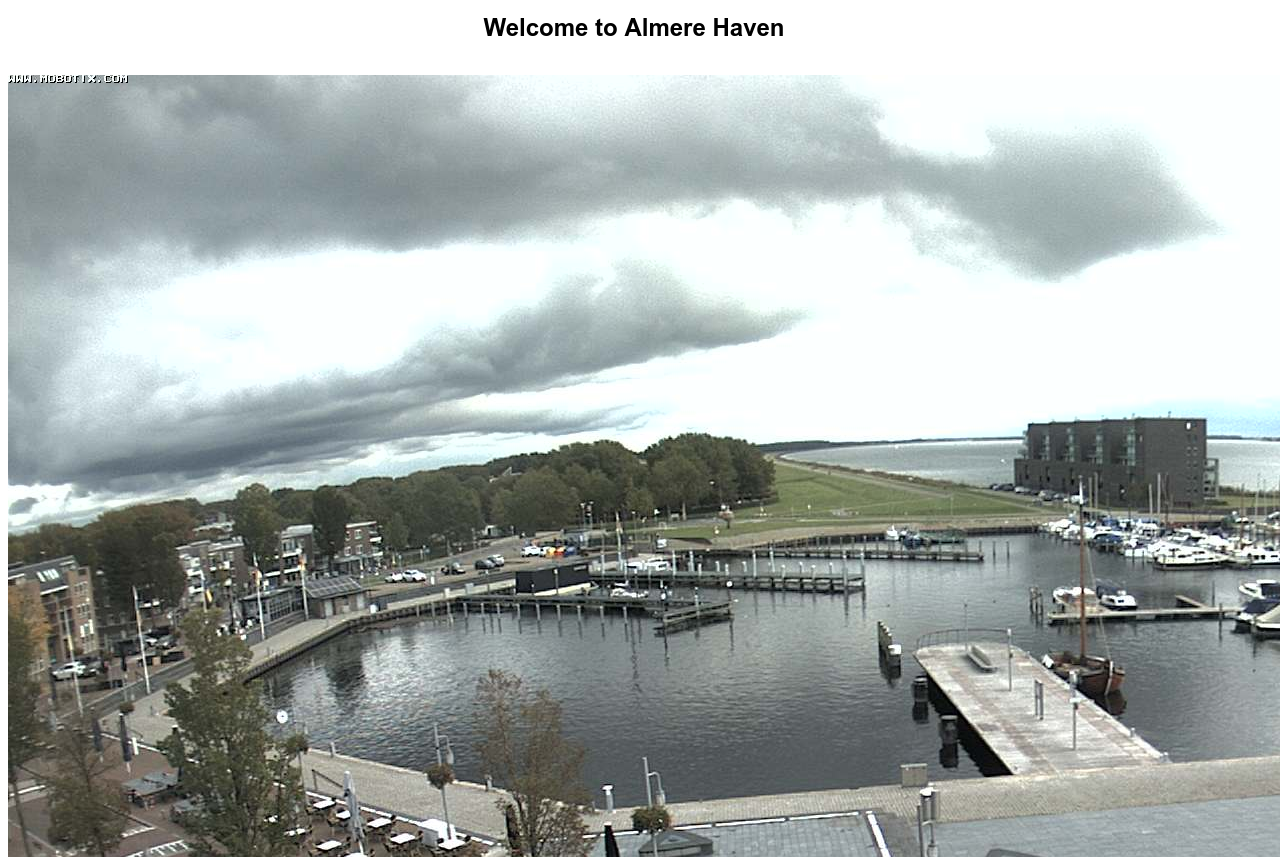no: (200, 569, 218, 604), (63, 607, 73, 648), (132, 586, 142, 622), (298, 551, 310, 573), (253, 557, 261, 584)
